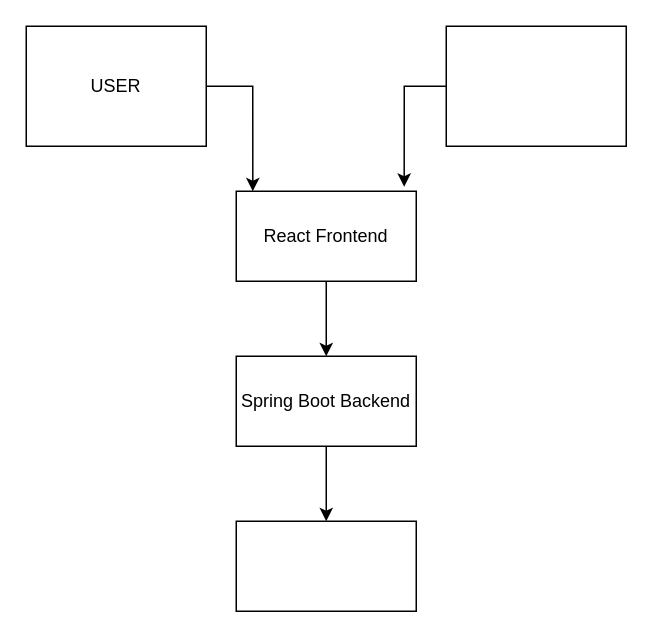
This 653x638 diagram has some shape labels left out. The shapes that lost their labels are listed below. From the top down, each one's centre as x and y in pixels, then its label:
the point at 535,85: ADMIN
the point at 325,565: MySQL Database
